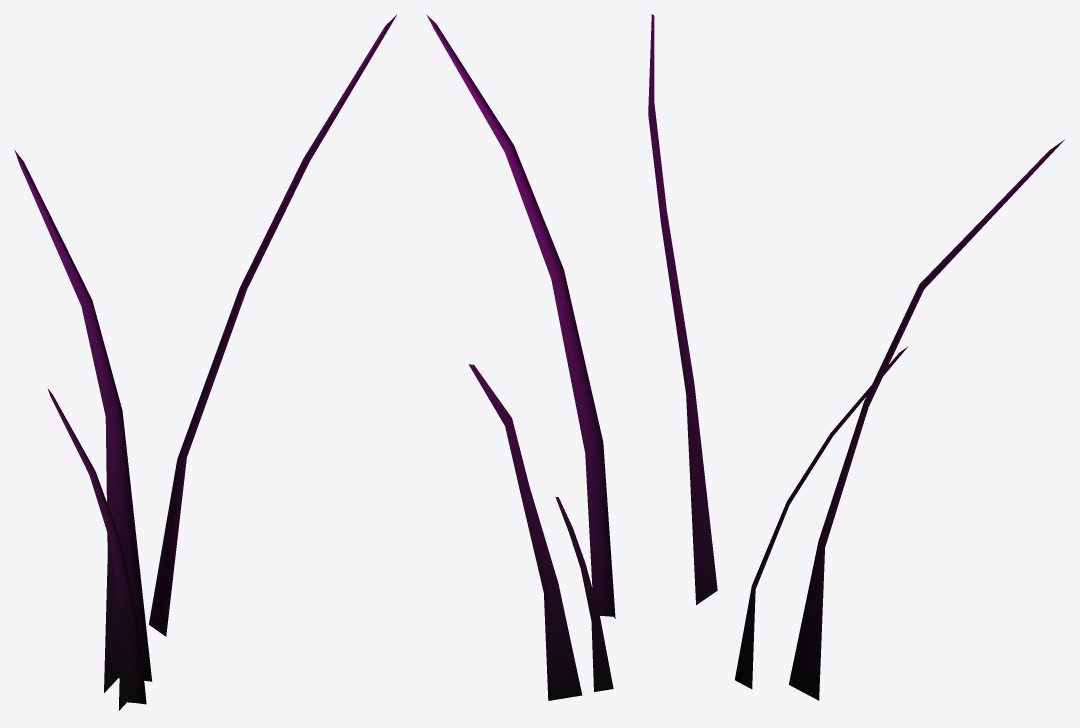
3 views of the same model, side by side, from view 1: azimuth 30°, elevation 25°; view 2: azimuth 150°, elevation 25°; view 3: azimuth 270°, elevation 25° (orthographic). The views are drawn at different scales.
Parts seen in each view (by area): view 1: maps\de_mirage\worldnodes\n0_lr0_c5_s_cb_b_mesh_cm00_lp62507; view 2: maps\de_mirage\worldnodes\n0_lr0_c5_s_cb_b_mesh_cm00_lp62507; view 3: maps\de_mirage\worldnodes\n0_lr0_c5_s_cb_b_mesh_cm00_lp62507.
Boxes of the visible parts, x1,y1,x2,y2 form: maps\de_mirage\worldnodes\n0_lr0_c5_s_cb_b_mesh_cm00_lp62507: (14,15,396,710); maps\de_mirage\worldnodes\n0_lr0_c5_s_cb_b_mesh_cm00_lp62507: (426,14,615,700); maps\de_mirage\worldnodes\n0_lr0_c5_s_cb_b_mesh_cm00_lp62507: (648,14,1064,700).
Size of the model in its own units: 0.3736 by 0.9597 by 0.4465.
